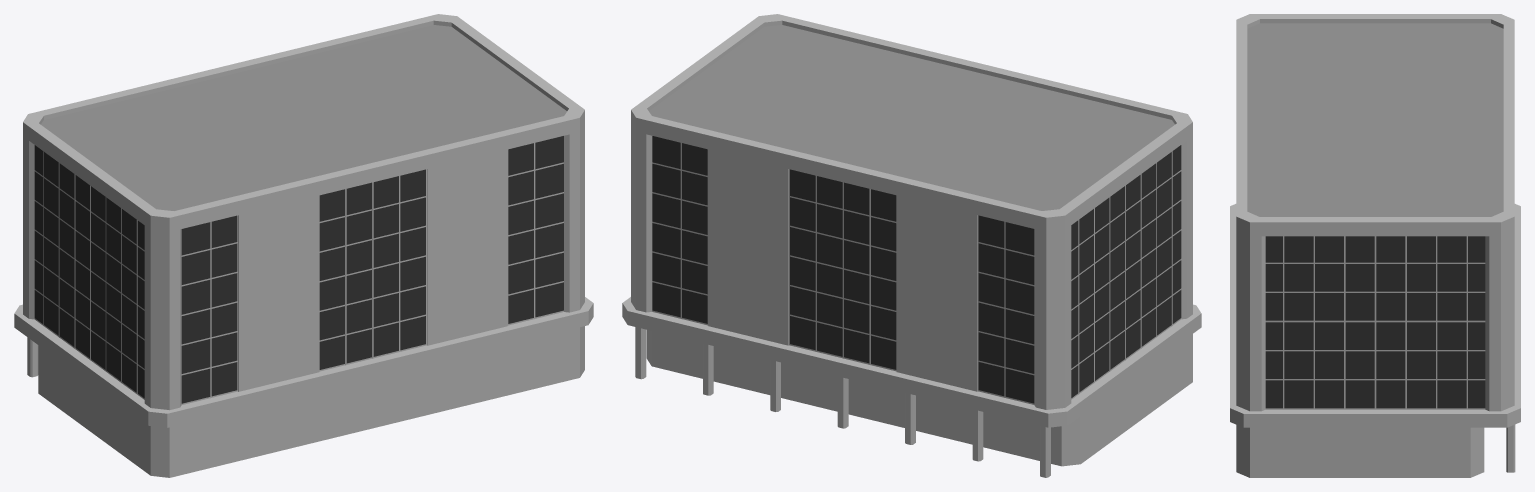
The model's file is spw-urban-bldg-09.glb.
3 views of the same model, side by side, from view 1: azimuth 30°, elevation 25°; view 2: azimuth 150°, elevation 25°; view 3: azimuth 270°, elevation 25° (orthographic).
Visible parts, largest first — view 1: SPW_Urban_Bldg_09; view 2: SPW_Urban_Bldg_09; view 3: SPW_Urban_Bldg_09.
Part boxes in pixels (x1,y1,x2,y2): SPW_Urban_Bldg_09: (14, 14, 593, 477); SPW_Urban_Bldg_09: (622, 14, 1201, 477); SPW_Urban_Bldg_09: (1230, 14, 1520, 477).
Size of the model in its own units: 33 by 18.43 by 19.
1 material, 1 textured.
